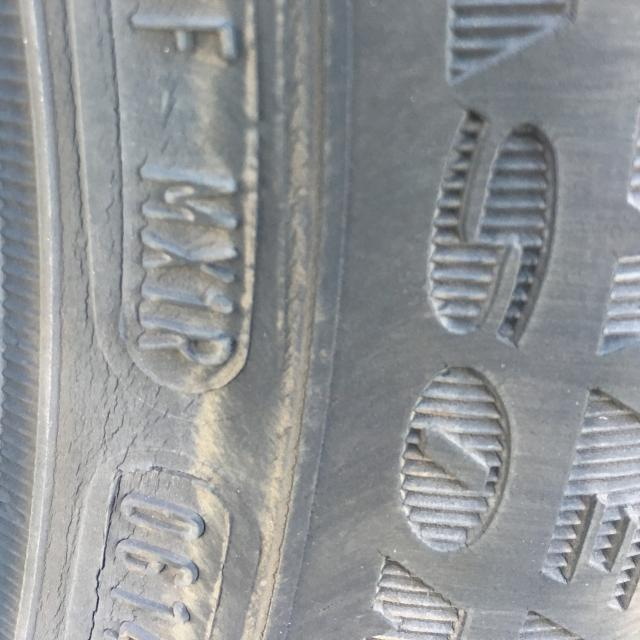Cracks: (29, 0, 338, 640)
Non-defective: (366, 0, 640, 640)
